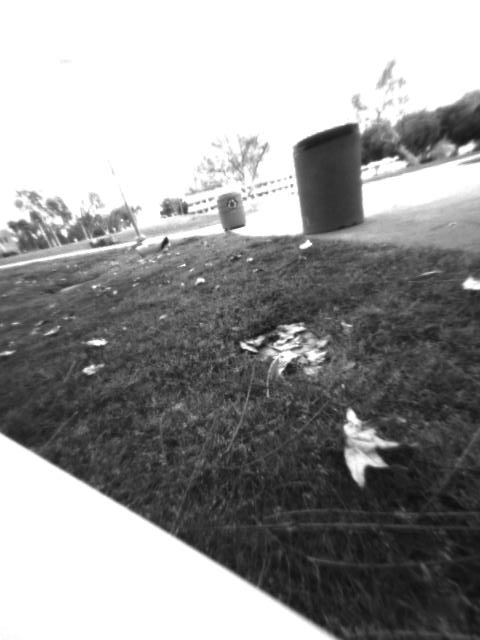trashcan: (289, 119, 370, 234), (213, 189, 250, 232)
